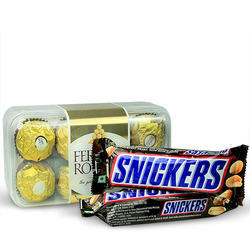snickers: (111, 155, 226, 190), (111, 155, 227, 180), (106, 188, 203, 199), (163, 197, 207, 213), (182, 146, 228, 153)
